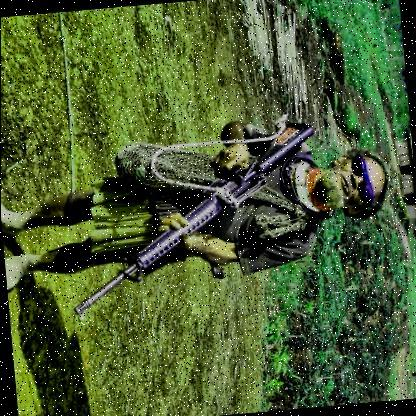rifle: (58, 119, 330, 315)
